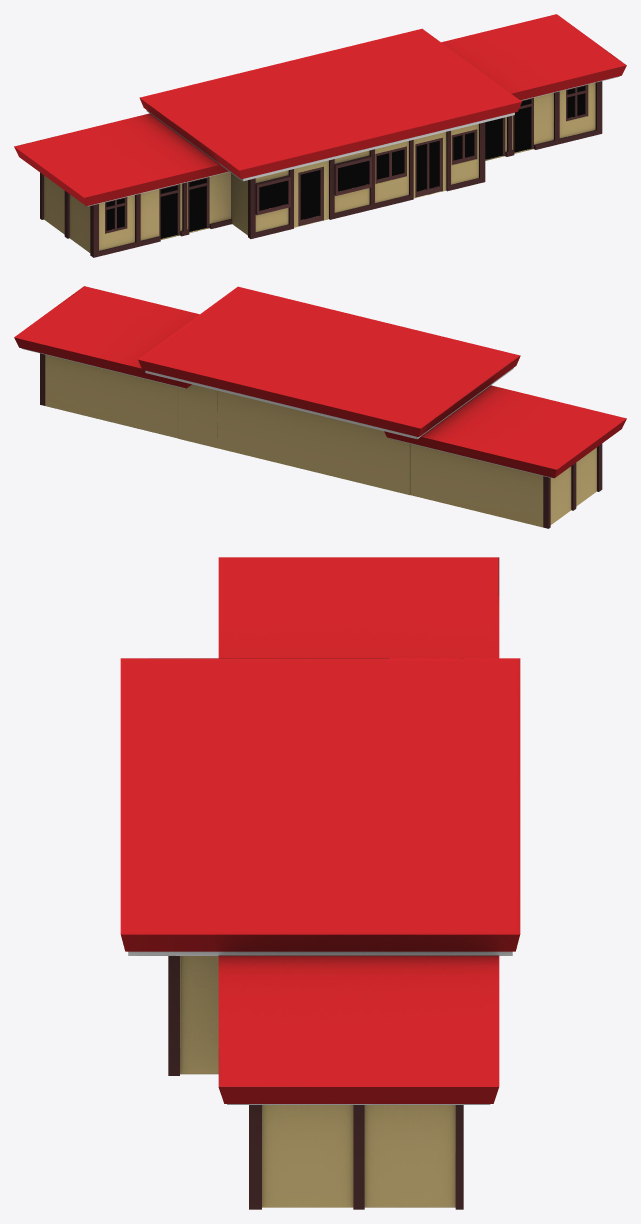
File: kantorspbu1.glb
3 renders of one model, top to bottom at view 1: azimuth 30°, elevation 25°; view 2: azimuth 150°, elevation 25°; view 3: azimuth 270°, elevation 25°, orthographic. The views are drawn at different scales.
Parts seen in each view (by area): view 1: Cube.002, Cube, Cube.006, Cube.004, Cube.005, Cube.003; view 2: Cube.002, Cube, Cube.003, Cube.004; view 3: Cube.002, Cube, Cube.004, Cube.003.
Boxes of the visible parts, x1=… form: Cube.002: x1=14, y1=14, x2=626, y2=206; Cube: x1=44, y1=82, x2=595, y2=252; Cube.006: x1=106, y1=86, x2=584, y2=238; Cube.004: x1=40, y1=81, x2=602, y2=257; Cube.005: x1=105, y1=84, x2=587, y2=236; Cube.003: x1=87, y1=76, x2=619, y2=206; Cube.002: x1=14, y1=286, x2=626, y2=478; Cube: x1=45, y1=354, x2=596, y2=527; Cube.003: x1=21, y1=348, x2=553, y2=478; Cube.004: x1=40, y1=353, x2=602, y2=528; Cube.002: x1=120, y1=557, x2=520, y2=1103; Cube: x1=180, y1=956, x2=455, y2=1207; Cube.004: x1=168, y1=956, x2=463, y2=1209; Cube.003: x1=128, y1=951, x2=512, y2=1104.
Bounding box in the file's own units: 44.02 × 6.42 × 14.03.
Materials: 6 (5 with a texture image).
